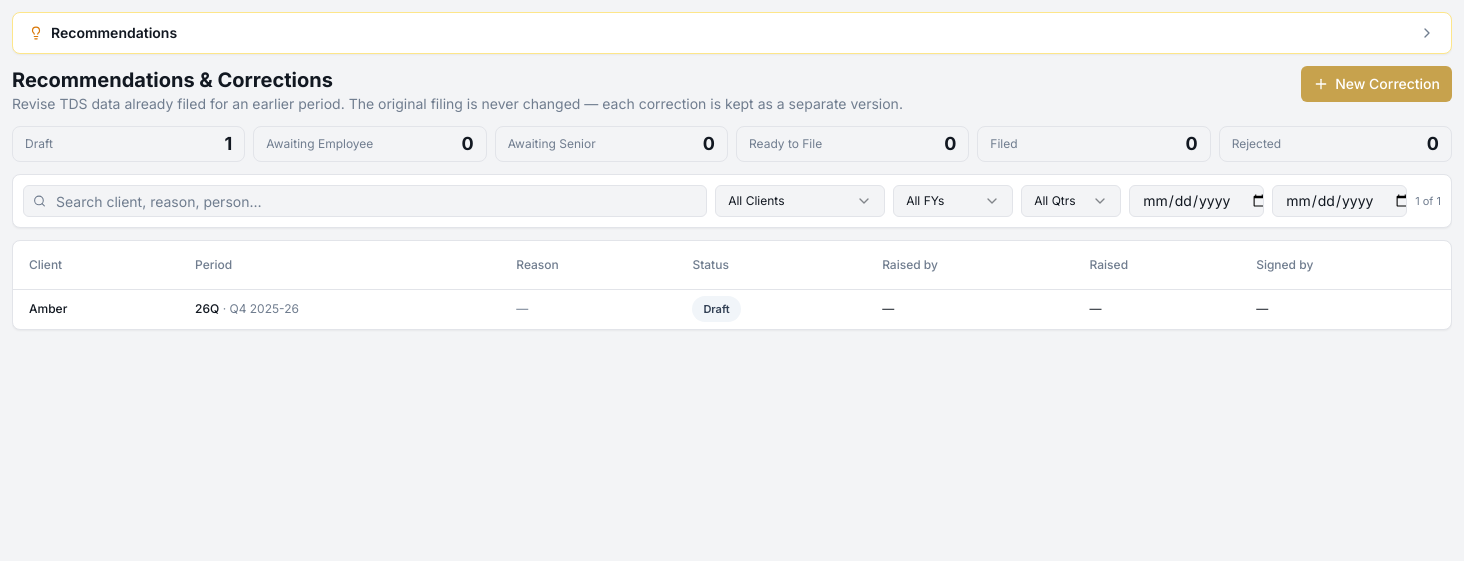
Test: changes panel › renders one row per change with aligned columns
The image size is (1464, 561).
Click the row titled "Open correction": (732, 309) 13,289 -> 1451,329
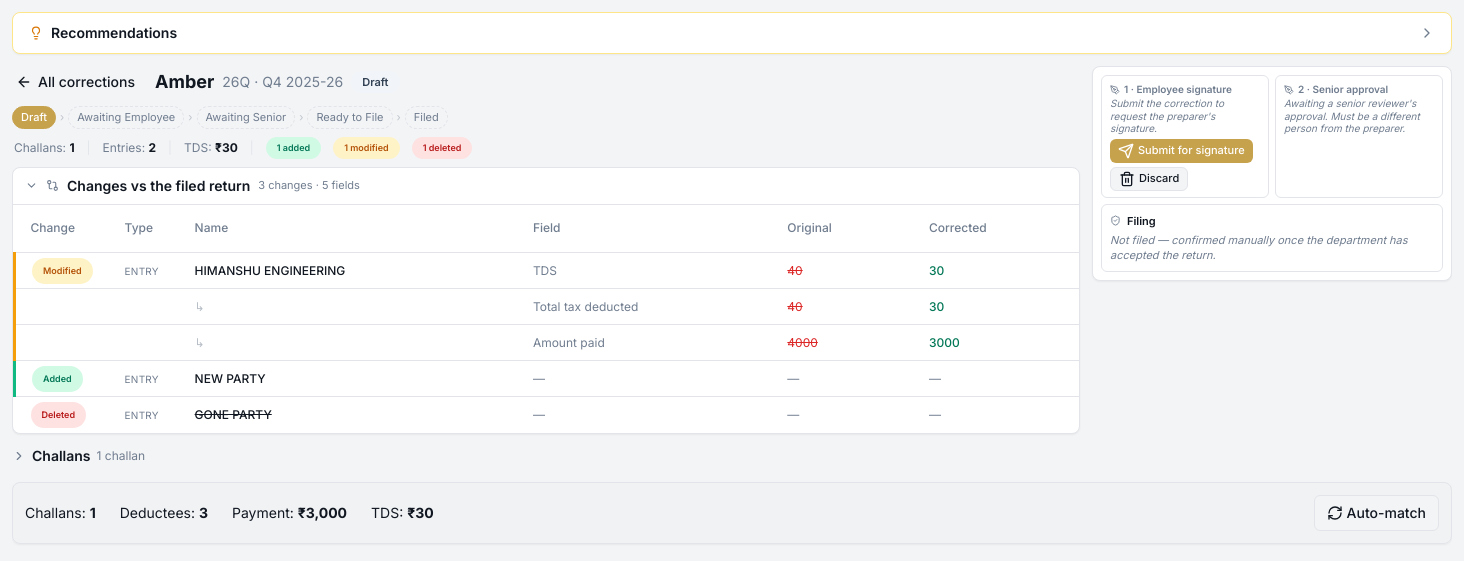
Expected: the table is shown, 13,204 -> 1079,432
Now the text "Modified" is shown, box 32,258 -> 93,284
